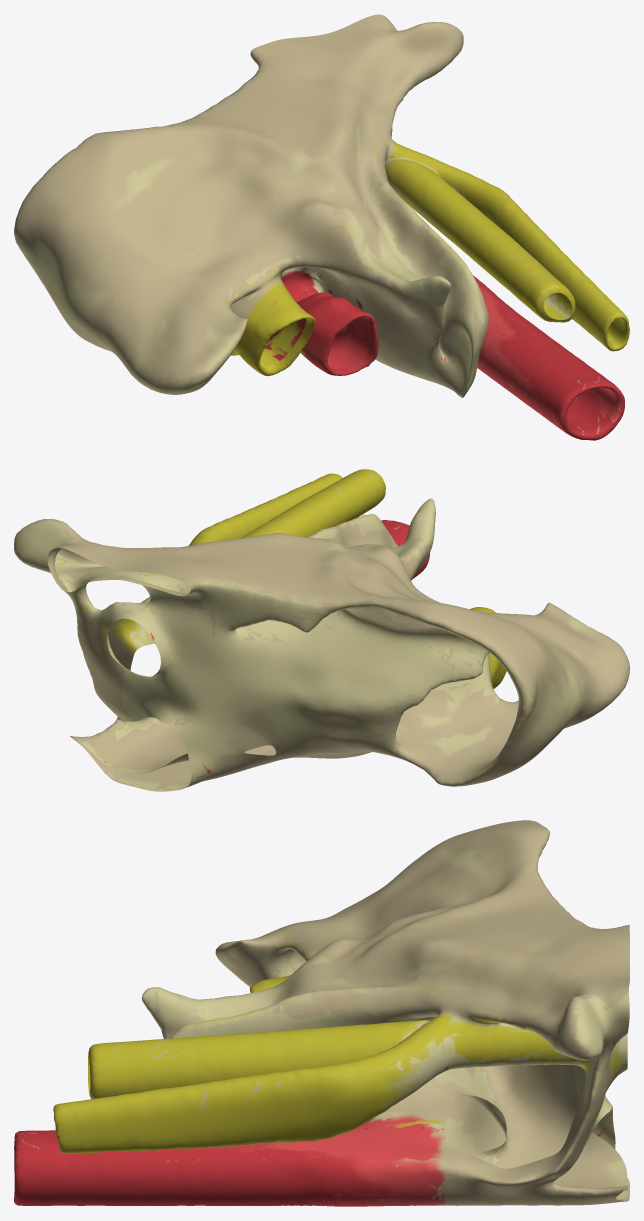
Rendered from vessel-4.glb.
The picture shows the model from 3 angles, top to bottom: view 1: azimuth 30°, elevation 25°; view 2: azimuth 150°, elevation 25°; view 3: azimuth 270°, elevation 25°; orthographic projection. The views are drawn at different scales.
Visible parts, largest first — view 1: vessel-3; view 2: vessel-3; view 3: vessel-3.
Boxes of the visible parts, box(x1,y1,x2,y2) form: vessel-3: box(14, 14, 629, 440); vessel-3: box(14, 469, 629, 791); vessel-3: box(14, 820, 629, 1206).
Bounding box in the file's own units: 1877 × 846 × 1870.
Materials: 1 (1 with a texture image).
